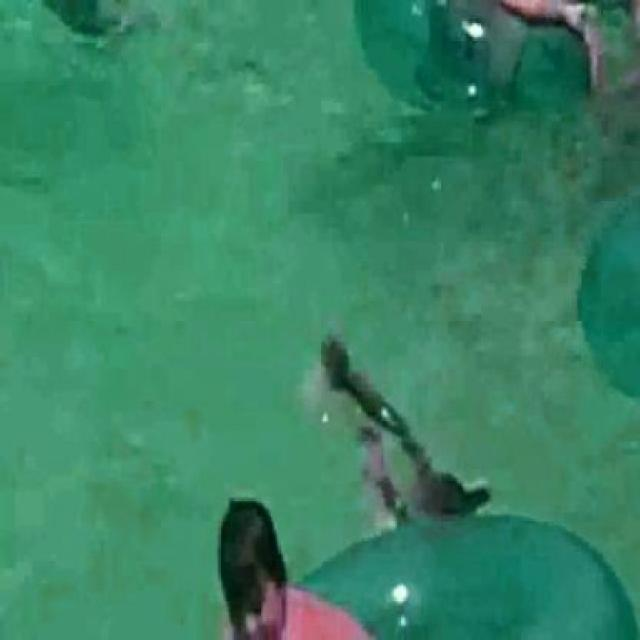drowning: (291, 334, 507, 514), (182, 492, 350, 640)
